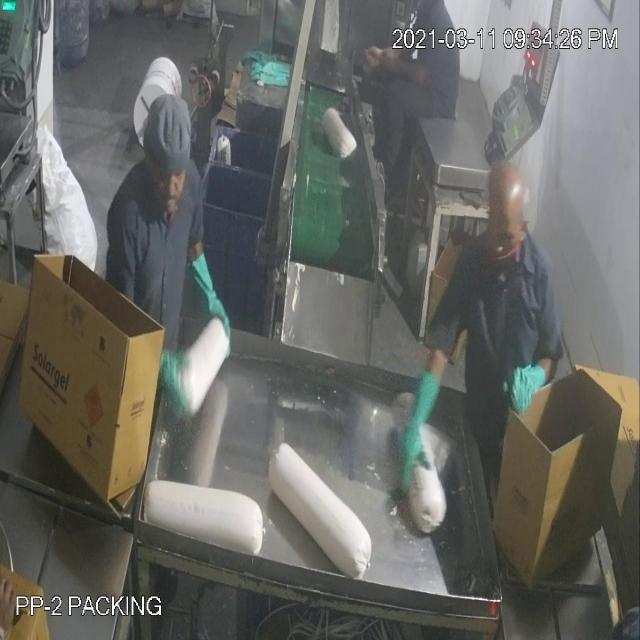No_Gloves: (42, 56, 527, 426)
